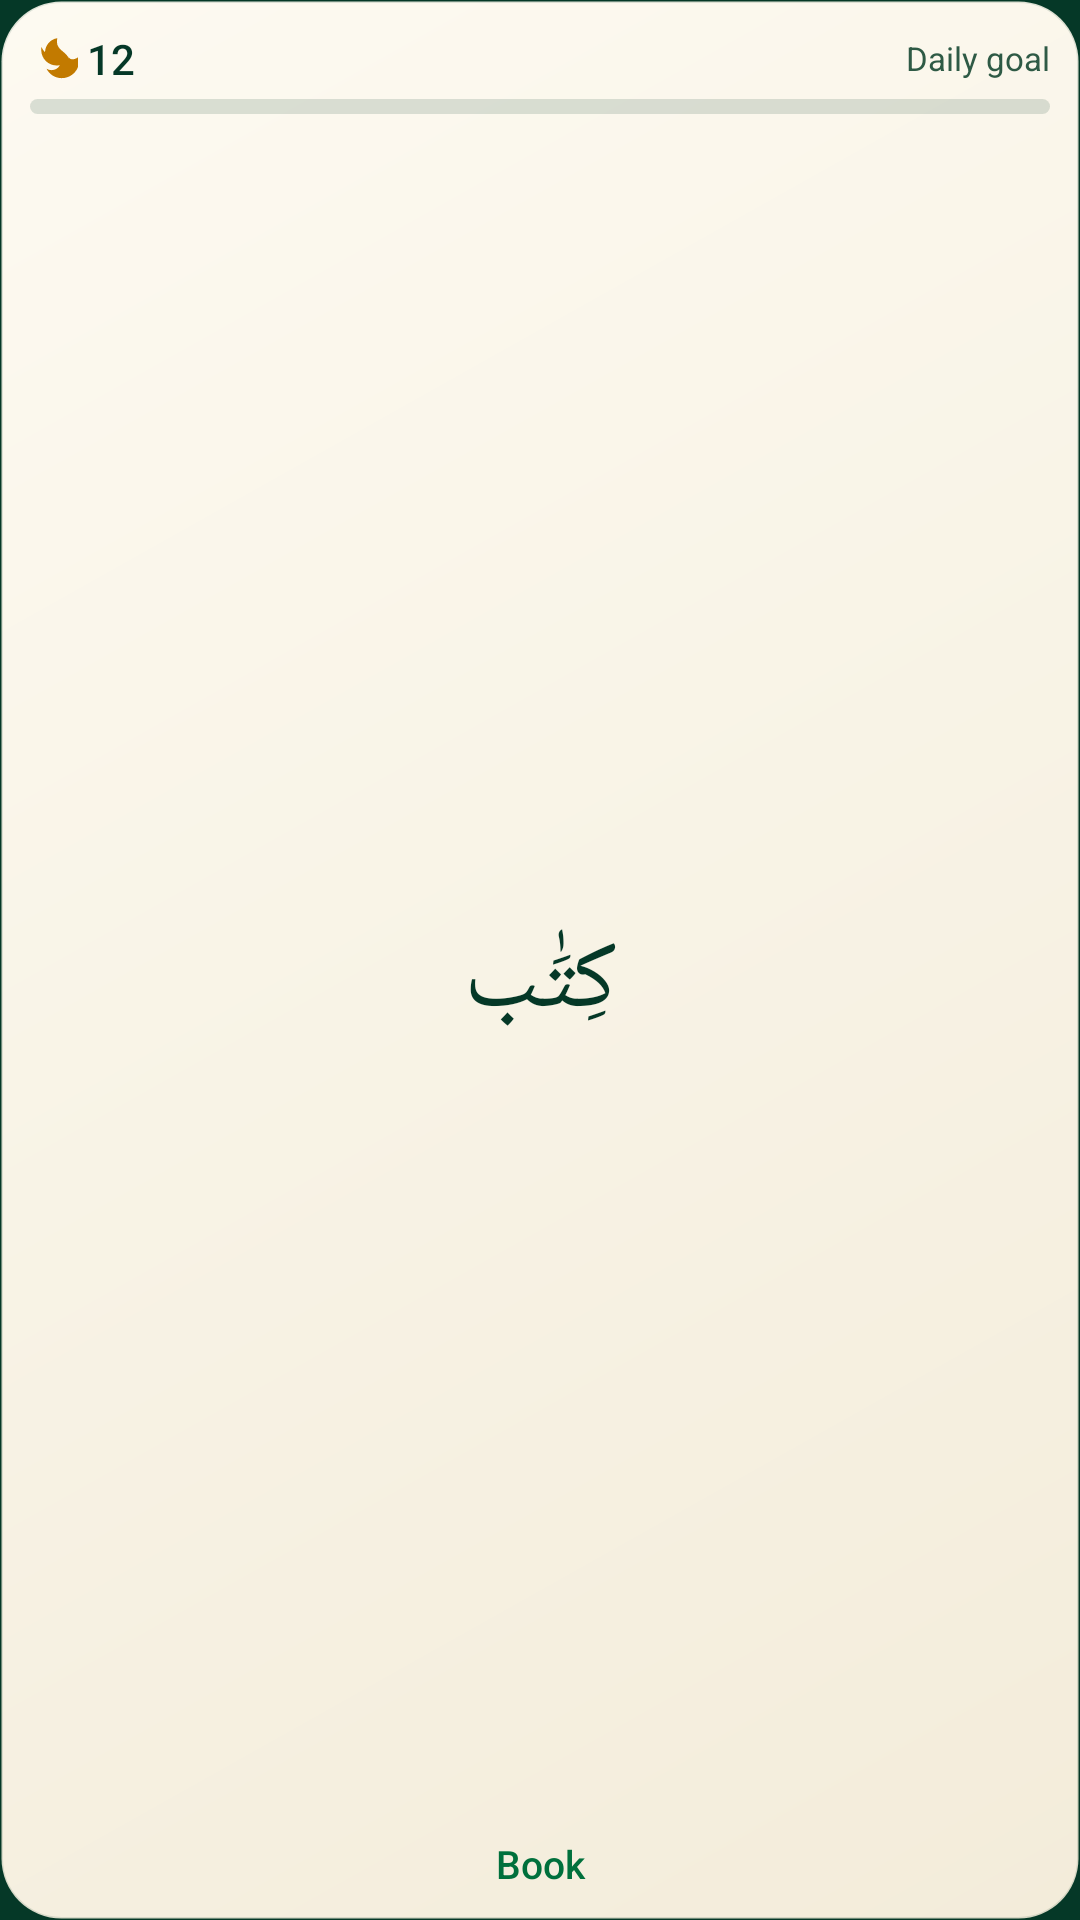

Locate icon controls on the screen. Image size 1080x1920, boxes as (x1, y1, x2, y2).
widget flame: (41, 38, 78, 79)
